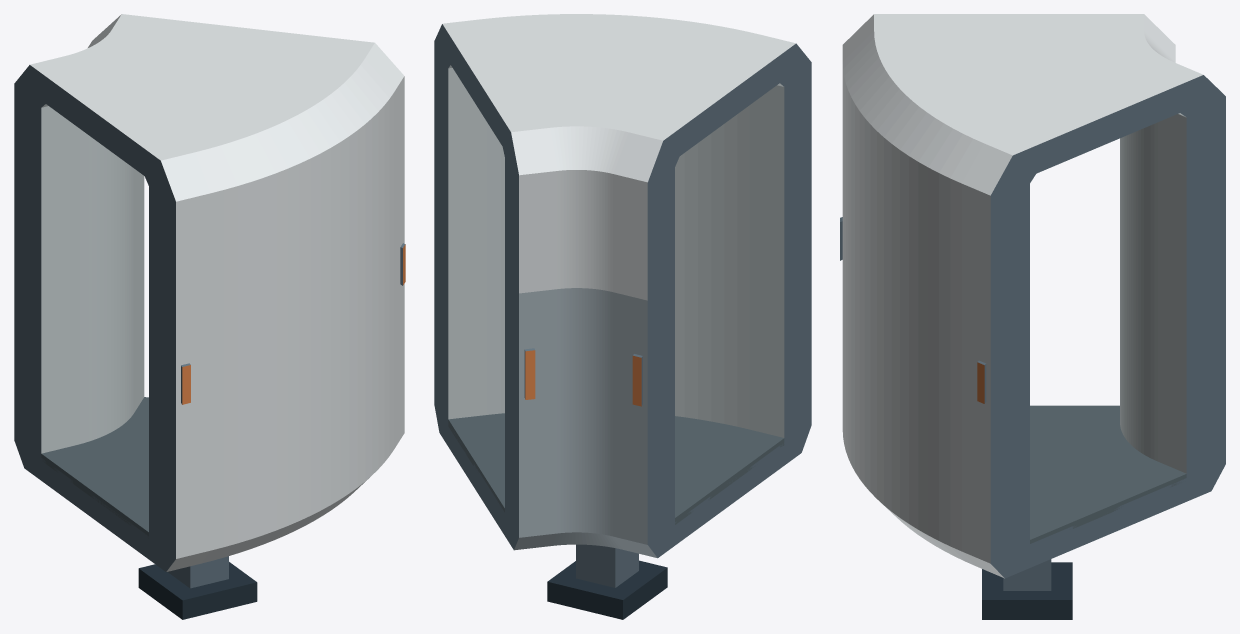
The model's file is cor_c01_transitable.glb.
3 views of the same model, side by side, from view 1: azimuth 30°, elevation 25°; view 2: azimuth 150°, elevation 25°; view 3: azimuth 270°, elevation 25° (orthographic). The views are drawn at different scales.
Visible parts, largest first — view 1: CODO_TR_CASCO_FRENTE, CODO_TR_CASCO_CUPULA, CODO_TR_CASCO_BASE, CODO_TR_CASCO_DORSO, CODO_TR_PISO_CURVO, CODO_TR_ZAPATA_Y_MARCAS; view 2: CODO_TR_CASCO_FRENTE, CODO_TR_CASCO_BASE, CODO_TR_CASCO_CUPULA, CODO_TR_CASCO_DORSO, CODO_TR_PISO_CURVO, CODO_TR_ZAPATA_Y_MARCAS; view 3: CODO_TR_CASCO_FRENTE, CODO_TR_CASCO_CUPULA, CODO_TR_CASCO_BASE, CODO_TR_PISO_CURVO, CODO_TR_CASCO_DORSO, CODO_TR_ZAPATA_Y_MARCAS.
Part boxes in pixels (x1=…): CODO_TR_CASCO_FRENTE: x1=148, y1=111, x2=404, y2=571; CODO_TR_CASCO_CUPULA: x1=25, y1=14, x2=404, y2=244; CODO_TR_CASCO_BASE: x1=14, y1=172, x2=153, y2=562; CODO_TR_CASCO_DORSO: x1=14, y1=23, x2=138, y2=219; CODO_TR_PISO_CURVO: x1=41, y1=397, x2=148, y2=538; CODO_TR_ZAPATA_Y_MARCAS: x1=138, y1=243, x2=405, y2=619; CODO_TR_CASCO_FRENTE: x1=434, y1=78, x2=811, y2=461; CODO_TR_CASCO_BASE: x1=446, y1=272, x2=788, y2=558; CODO_TR_CASCO_CUPULA: x1=434, y1=14, x2=811, y2=173; CODO_TR_CASCO_DORSO: x1=505, y1=140, x2=674, y2=300; CODO_TR_PISO_CURVO: x1=448, y1=413, x2=784, y2=524; CODO_TR_ZAPATA_Y_MARCAS: x1=524, y1=348, x2=667, y2=619; CODO_TR_CASCO_FRENTE: x1=842, y1=101, x2=1030, y2=578; CODO_TR_CASCO_CUPULA: x1=842, y1=14, x2=1210, y2=243; CODO_TR_CASCO_BASE: x1=1023, y1=184, x2=1225, y2=570; CODO_TR_PISO_CURVO: x1=1030, y1=405, x2=1186, y2=543; CODO_TR_CASCO_DORSO: x1=1120, y1=24, x2=1225, y2=232; CODO_TR_ZAPATA_Y_MARCAS: x1=840, y1=217, x2=1072, y2=619.
Bounding box in the file's own units: 1.93 × 3.17 × 2.09.
